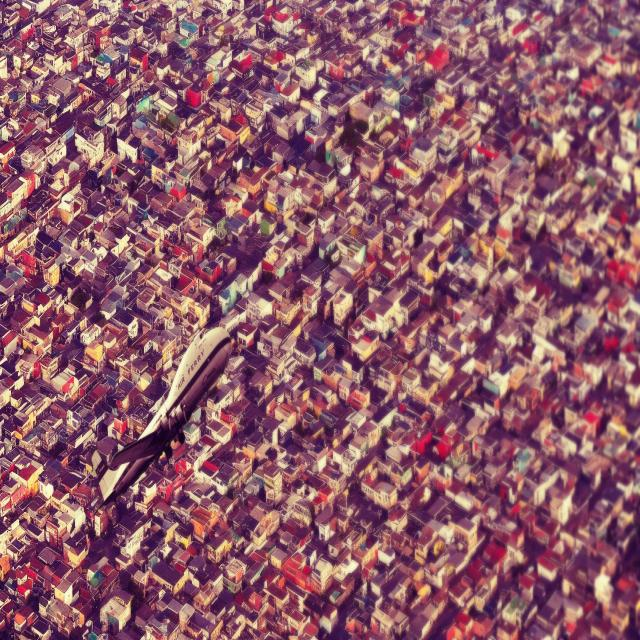airplane: (88, 323, 232, 512)
